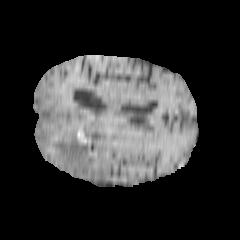glioma: (53, 115, 120, 177)
